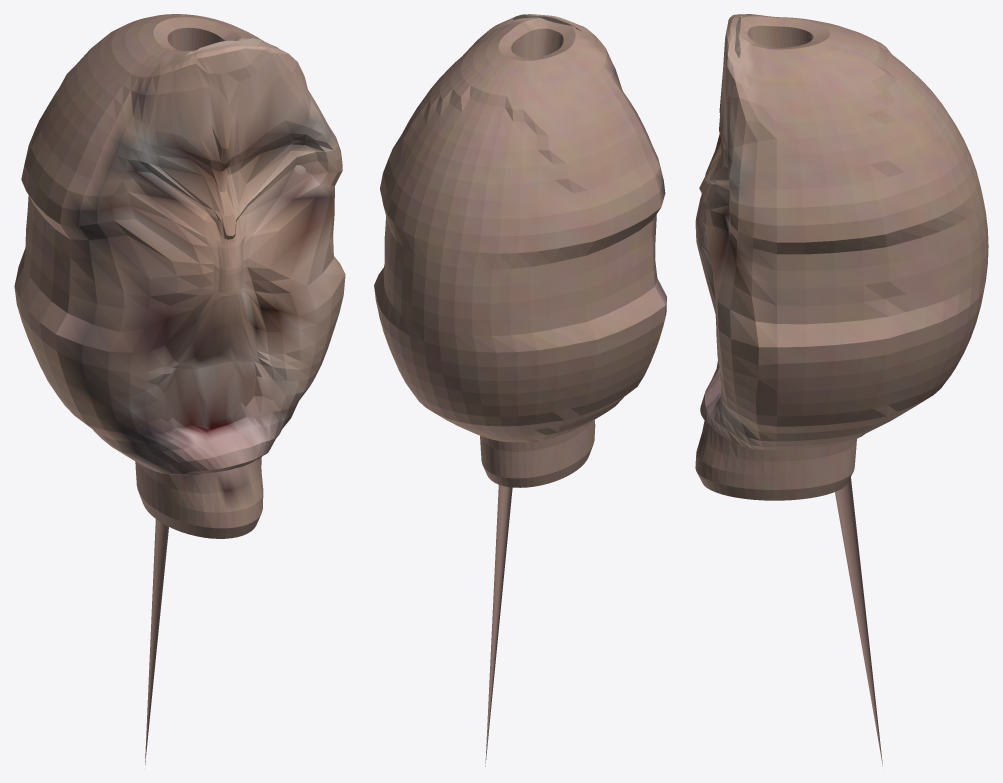
Rendered from avatar_v2_70b36c0e.glb.
The picture shows the model from 3 angles, left to right: view 1: azimuth 30°, elevation 25°; view 2: azimuth 150°, elevation 25°; view 3: azimuth 270°, elevation 25°; orthographic projection. The views are drawn at different scales.
Parts seen in each view (by area): view 1: world; view 2: world; view 3: world.
Part boxes in pixels (x1,y1,x2,y2): world: [14, 14, 345, 764]; world: [374, 14, 666, 766]; world: [695, 14, 988, 766].
Bounding box in the file's own units: 0.0847 × 0.2219 × 0.0792.
